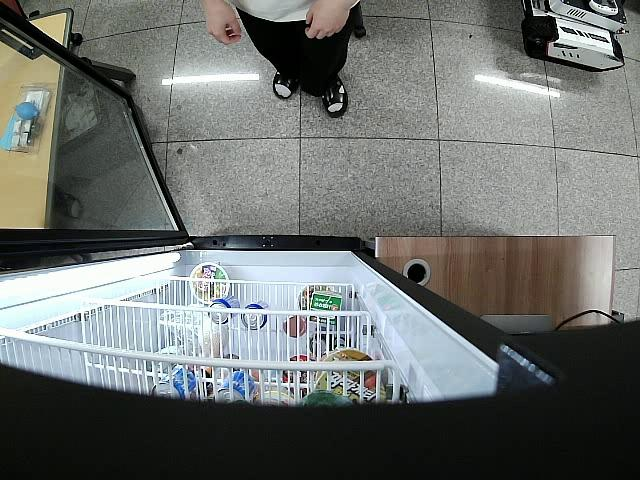00_hand: (201, 0, 244, 44), (306, 0, 350, 40)
